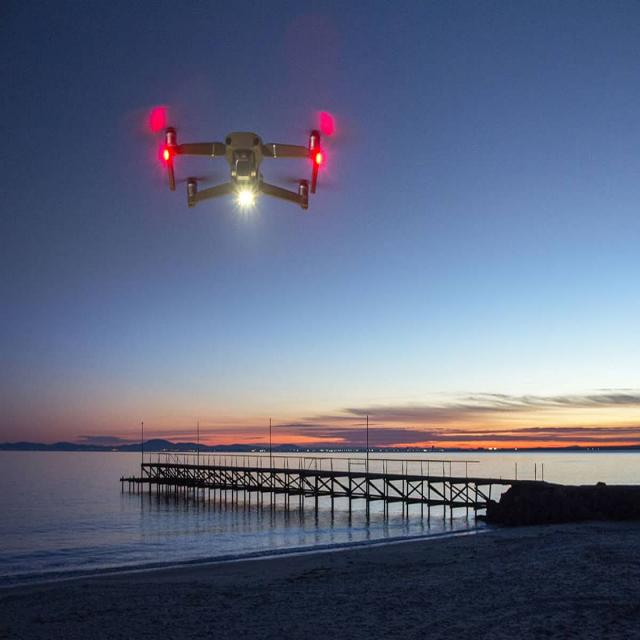drones: (112, 95, 365, 235)
